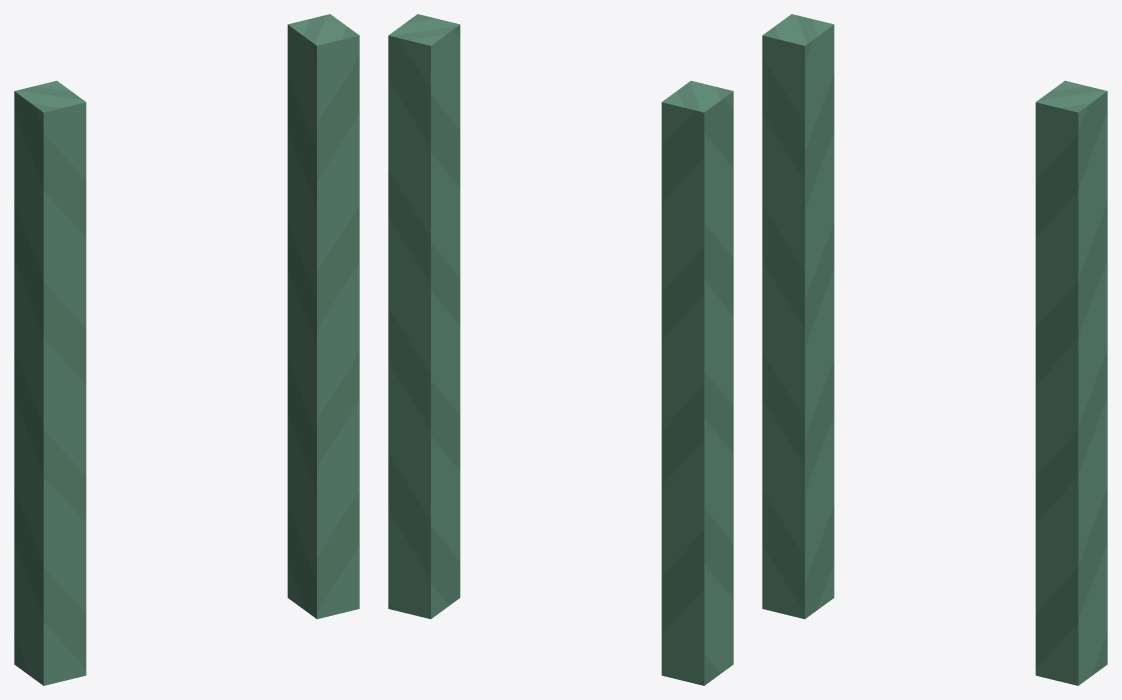
The model's file is wall.fbx.
3 renders of one model, left to right at view 1: azimuth 30°, elevation 25°; view 2: azimuth 150°, elevation 25°; view 3: azimuth 330°, elevation 25°, orthographic.
Visible parts, largest first — view 1: Cube; view 2: Cube; view 3: Cube.
Boxes of the visible parts, box(x1,y1,x2,y2) form: Cube: box(14, 14, 359, 685); Cube: box(388, 14, 733, 685); Cube: box(762, 14, 1107, 685).
Size of the model in its own units: 62.03 by 108 by 10.
1 material, 1 textured.
